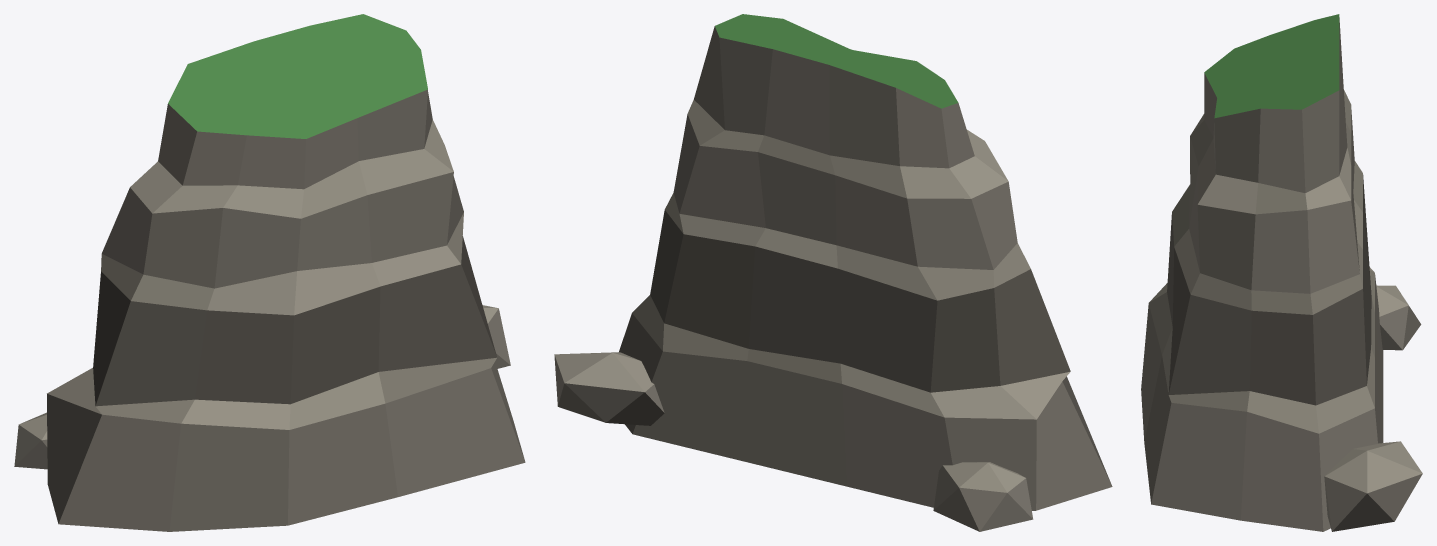
The model's file is cliff_chunk.glb.
The picture shows the model from 3 angles, left to right: view 1: azimuth 30°, elevation 25°; view 2: azimuth 150°, elevation 25°; view 3: azimuth 270°, elevation 25°; orthographic projection. The views are drawn at different scales.
Visible parts, largest first — view 1: Body; view 2: Body; view 3: Body.
Boxes of the visible parts, bbox=[...] form: Body: bbox=[14, 14, 525, 531]; Body: bbox=[554, 14, 1112, 531]; Body: bbox=[1141, 14, 1422, 531].
Bounding box in the file's own units: 7.25 × 5.5 × 3.66.
